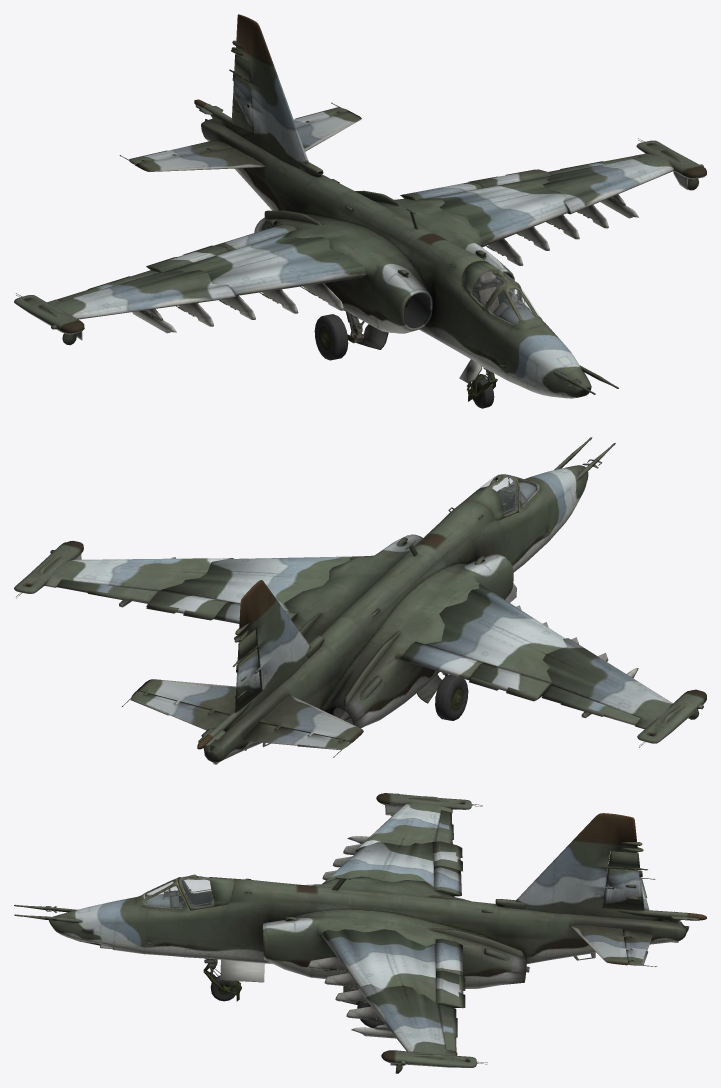
The picture shows the model from 3 angles, top to bottom: view 1: azimuth 30°, elevation 25°; view 2: azimuth 150°, elevation 25°; view 3: azimuth 270°, elevation 25°; orthographic projection. The views are drawn at different scales.
Parts seen in each view (by area): view 1: Object_4, Object_3, Object_5; view 2: Object_4, Object_3, Object_5; view 3: Object_4, Object_3, Object_5.
Part boxes in pixels (bbox=[...]): Object_4: bbox=[201, 102, 706, 398]; Object_3: bbox=[14, 14, 595, 408]; Object_5: bbox=[471, 269, 539, 324]; Object_4: bbox=[14, 437, 592, 764]; Object_3: bbox=[197, 443, 706, 757]; Object_5: bbox=[479, 475, 538, 514]; Object_4: bbox=[14, 876, 689, 1073]; Object_3: bbox=[14, 793, 706, 1027]; Object_5: bbox=[144, 876, 213, 908].
Bounding box in the file's own units: 294 × 95.77 × 319.
Materials: 2 (2 with a texture image).
